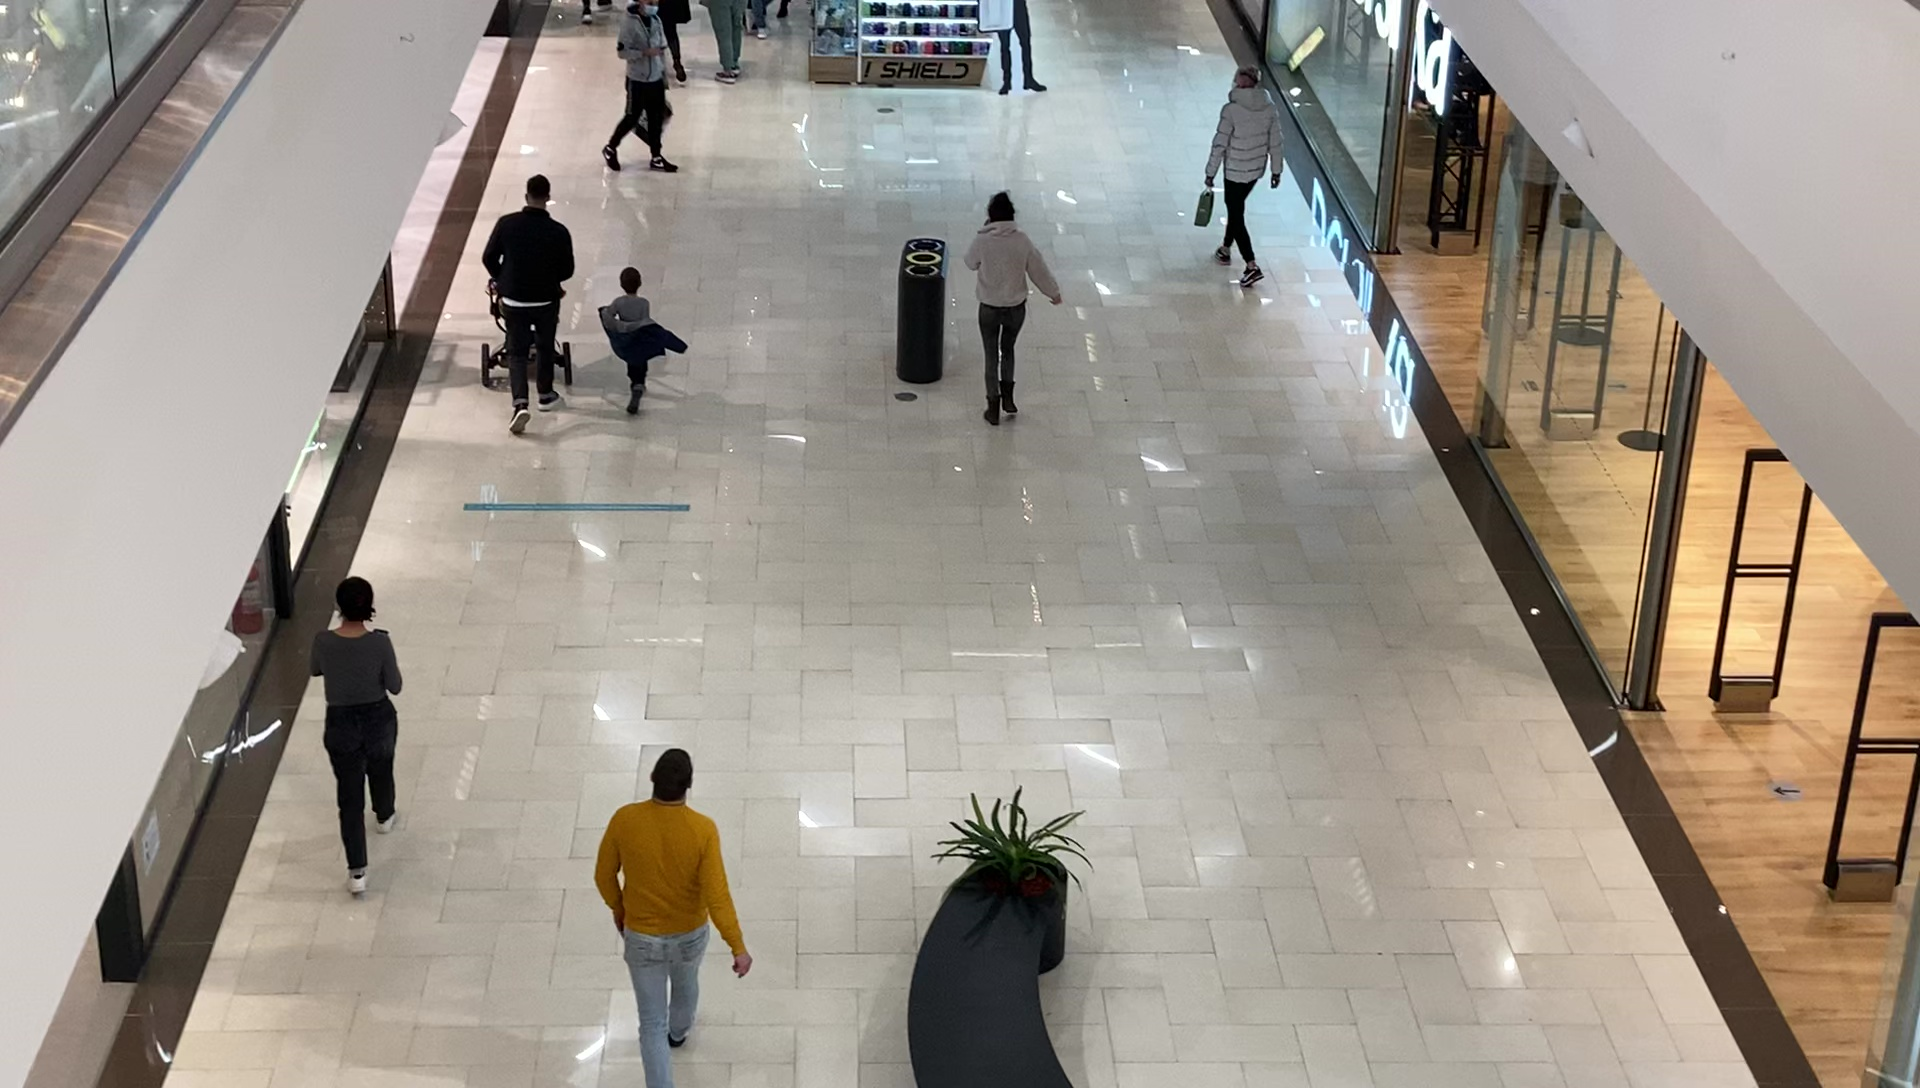person: (594, 747, 752, 1088), (308, 574, 407, 895), (482, 174, 577, 436), (966, 192, 1063, 426), (1202, 67, 1284, 288), (603, 1, 681, 174), (601, 267, 689, 414)
